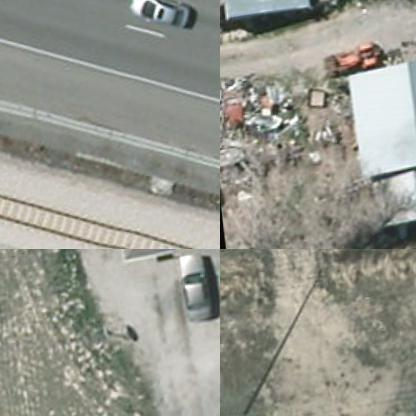car: (172, 250, 212, 340), (123, 0, 194, 46)
other: (323, 46, 384, 84)
